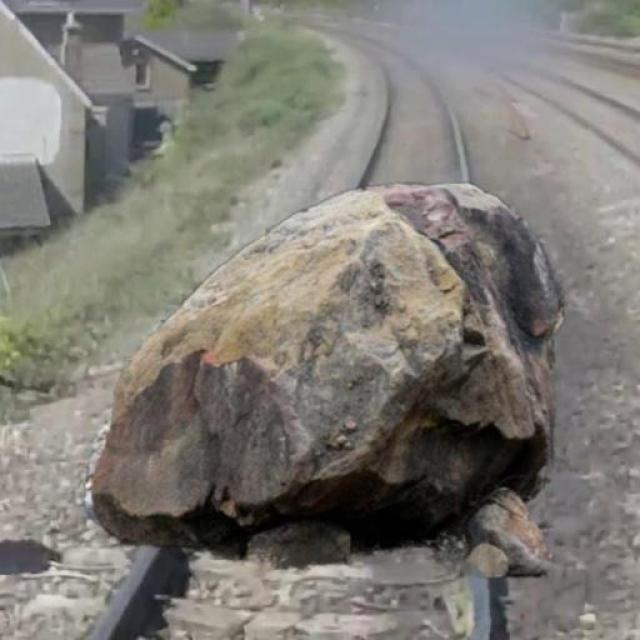Stone: (83, 166, 568, 580)
